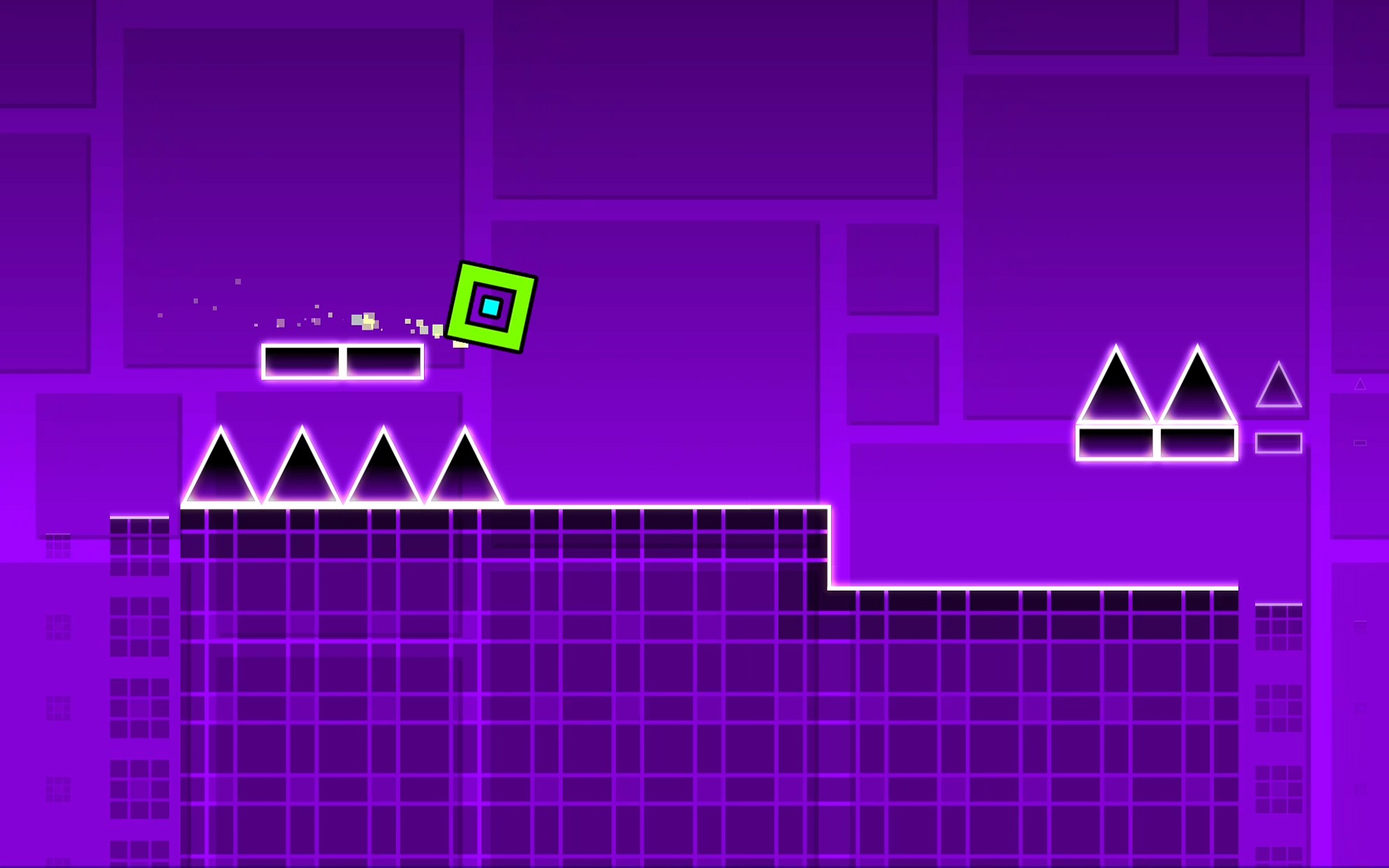Block2: (106, 509, 828, 868), (829, 584, 1308, 868)
Block3: (252, 344, 347, 384), (1157, 423, 1241, 464), (1066, 425, 1157, 460), (347, 345, 420, 381)
Player: (444, 260, 536, 351)
Spike: (182, 426, 258, 504), (428, 426, 501, 502), (1078, 345, 1151, 420), (1161, 345, 1234, 420), (266, 426, 337, 502), (348, 427, 419, 501), (1256, 361, 1303, 407)
